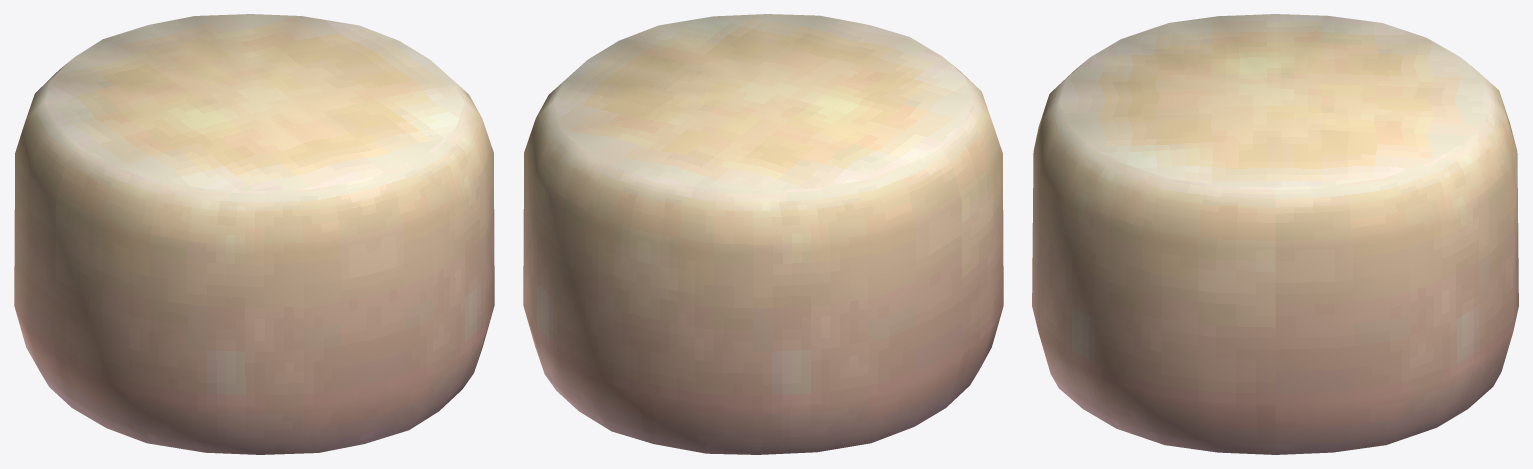
The model's file is rmk_oth_marshmallow.dae.
The picture shows the model from 3 angles, left to right: view 1: azimuth 30°, elevation 25°; view 2: azimuth 150°, elevation 25°; view 3: azimuth 270°, elevation 25°; orthographic projection.
Visible parts, largest first — view 1: rmk_oth_marshmallow; view 2: rmk_oth_marshmallow; view 3: rmk_oth_marshmallow.
Part boxes in pixels (bbox=[...]): rmk_oth_marshmallow: bbox=[14, 14, 494, 454]; rmk_oth_marshmallow: bbox=[523, 14, 1003, 454]; rmk_oth_marshmallow: bbox=[1032, 14, 1518, 454].
Size of the model in its own units: 24.55 by 15.81 by 25.63.
1 material, 1 textured.
